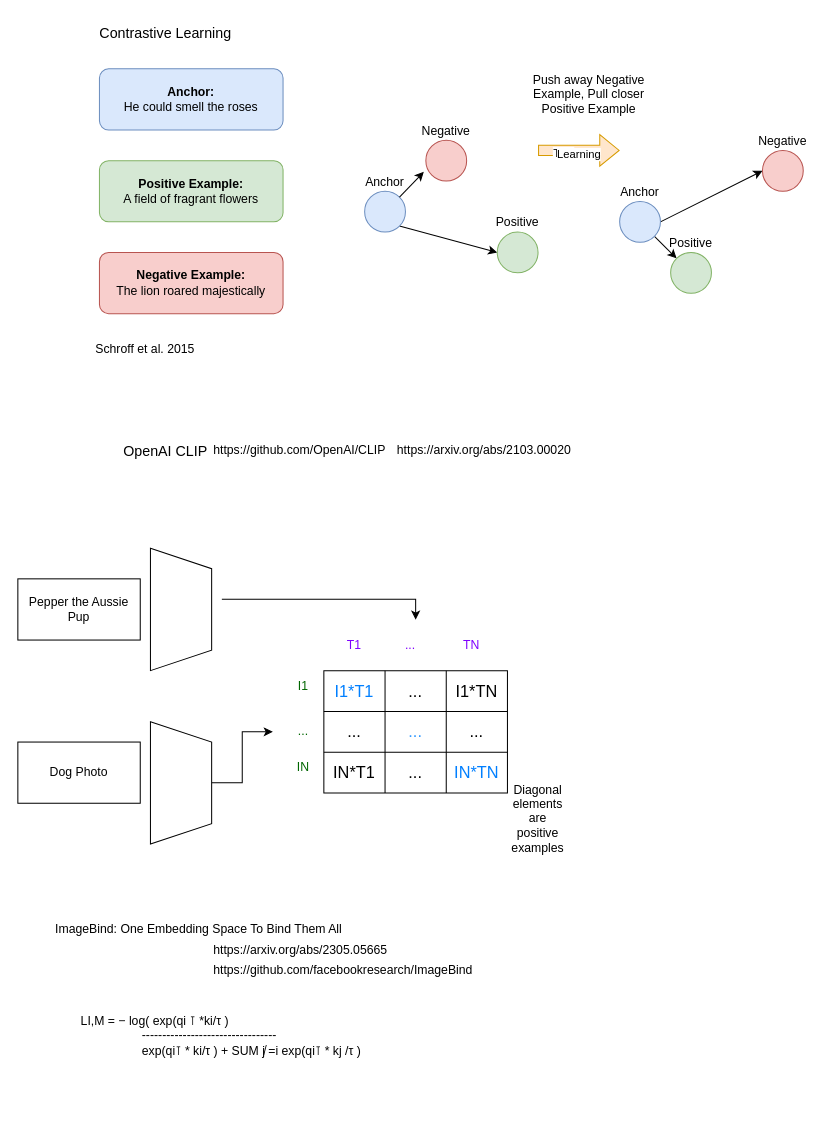
The diagram is 824 pixels wide and 1136 high, and some of its shapes have lost their labels. The centre of each missing label's shape, as x and y in pixels:
Image Encoder: point 180,782
Text Encoder: point 180,609
